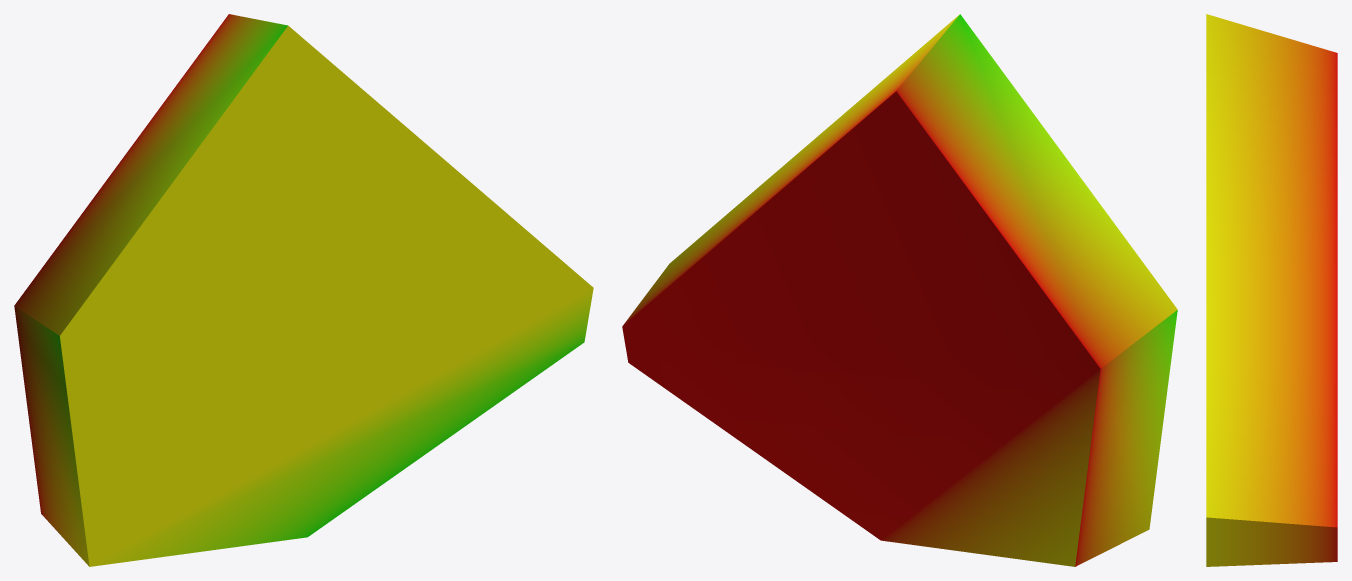
Rendered from Part_3_broken wall_07.fbx.
3 views of the same model, side by side, from view 1: azimuth 30°, elevation 25°; view 2: azimuth 150°, elevation 25°; view 3: azimuth 270°, elevation 25° (orthographic). The views are drawn at different scales.
Parts seen in each view (by area): view 1: Part_3_broken wall_07; view 2: Part_3_broken wall_07; view 3: Part_3_broken wall_07.
Boxes of the visible parts, bbox=[...] form: Part_3_broken wall_07: bbox=[14, 14, 593, 566]; Part_3_broken wall_07: bbox=[622, 14, 1177, 566]; Part_3_broken wall_07: bbox=[1206, 14, 1337, 566].
Bounding box in the file's own units: 10.19 × 9.42 × 2.09.
